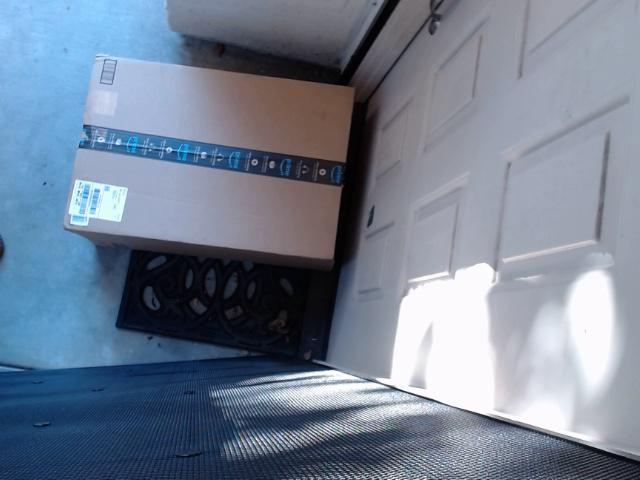box: (21, 18, 379, 259)
